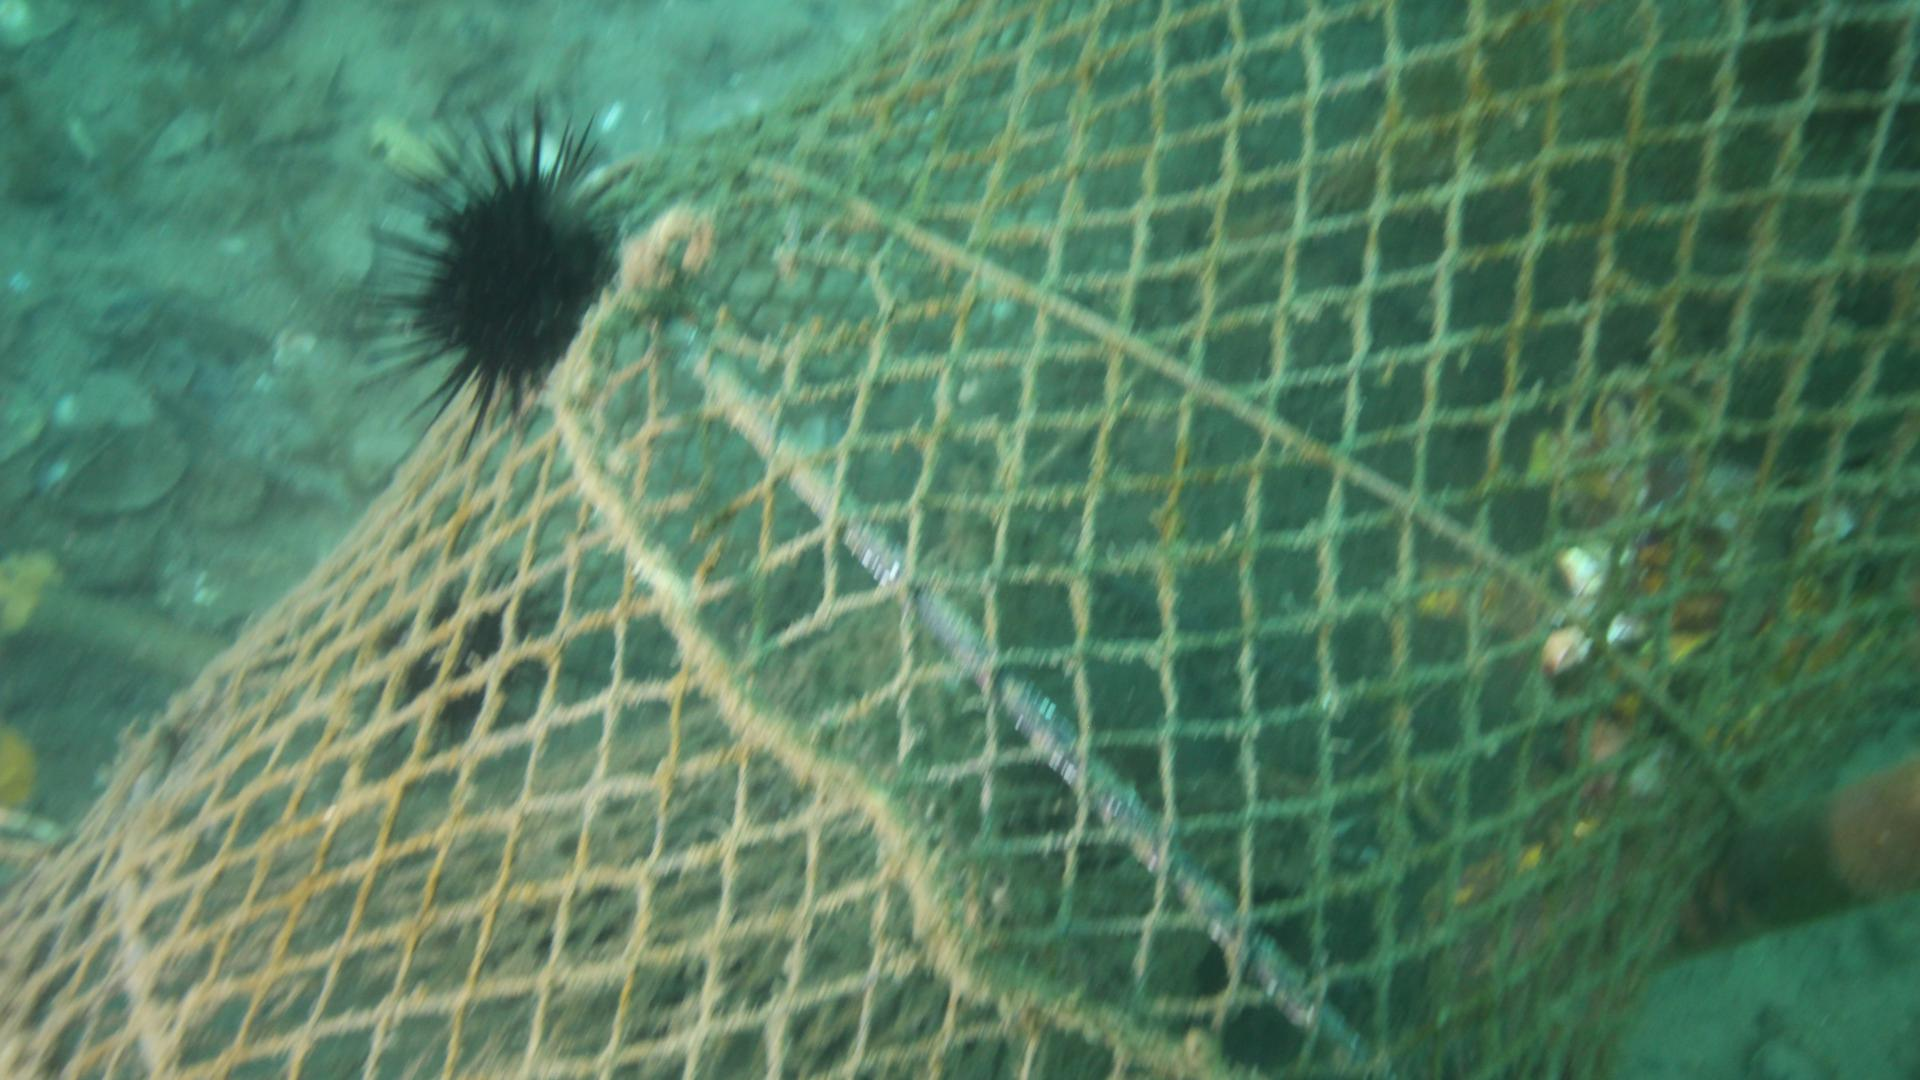spring fish trap: (0, 1, 1920, 1080)
